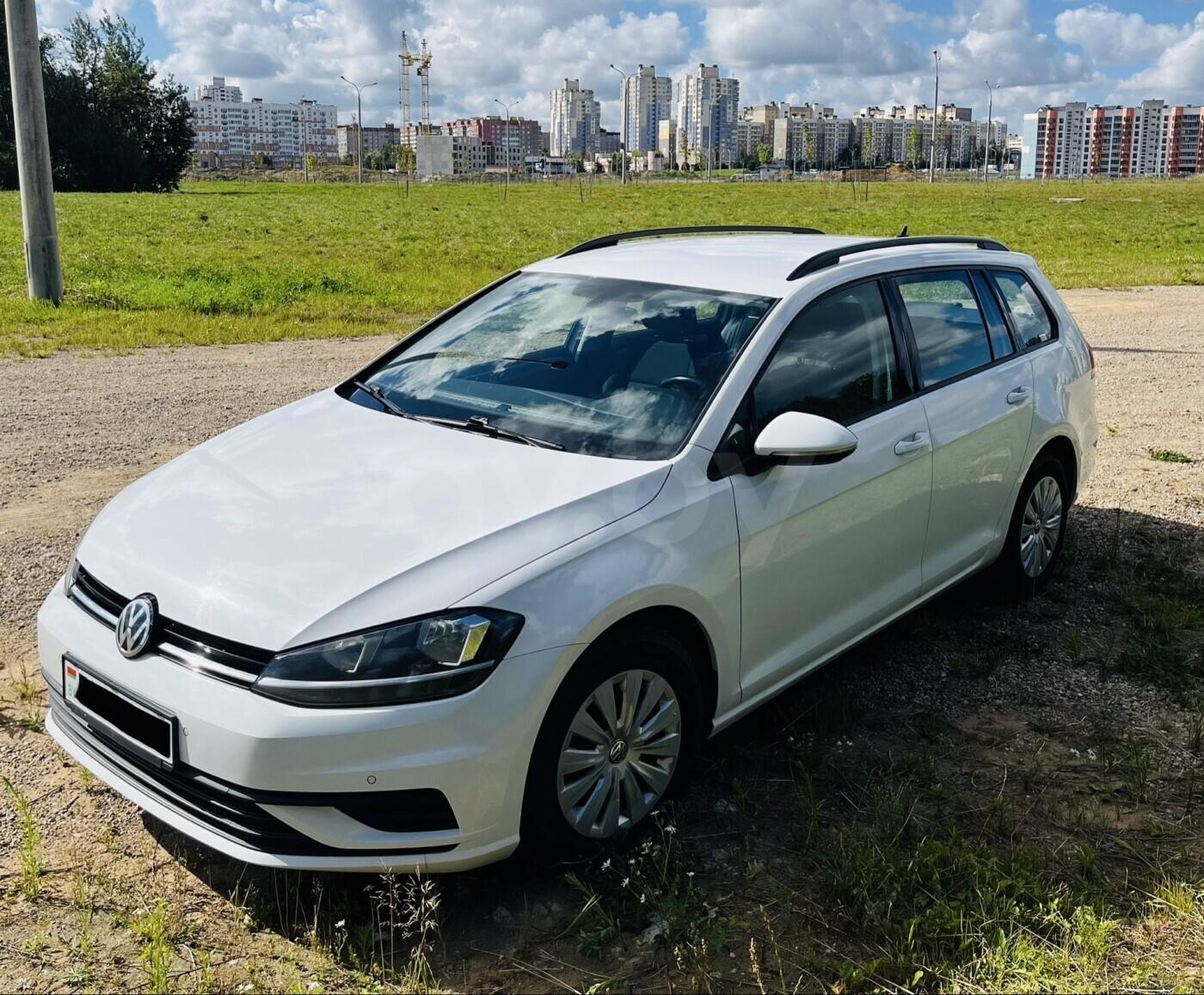Golf_2017-2021: (32, 228, 1107, 894)
